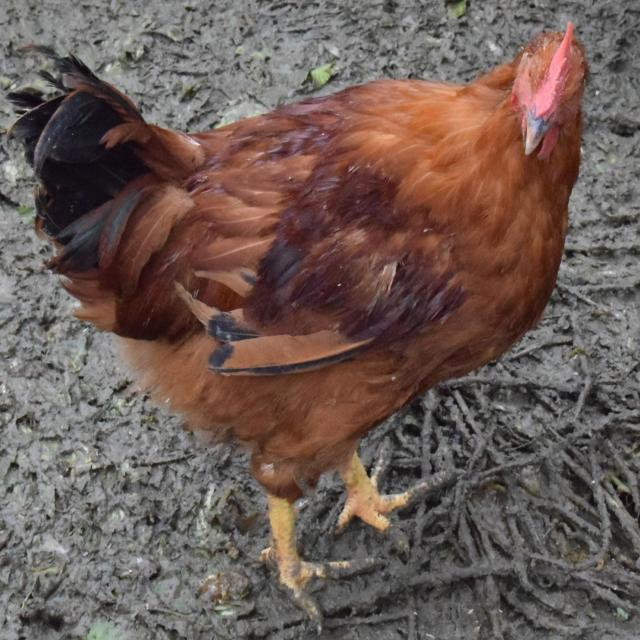cook: (10, 27, 609, 631)
